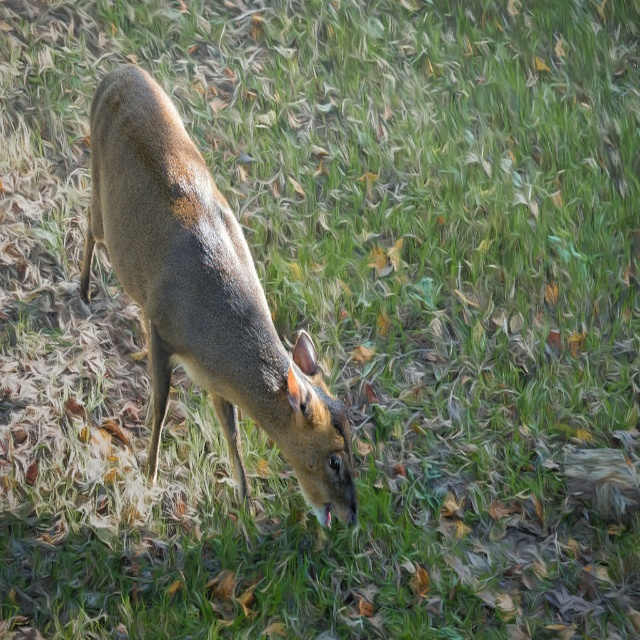Deer: (81, 65, 355, 529)
